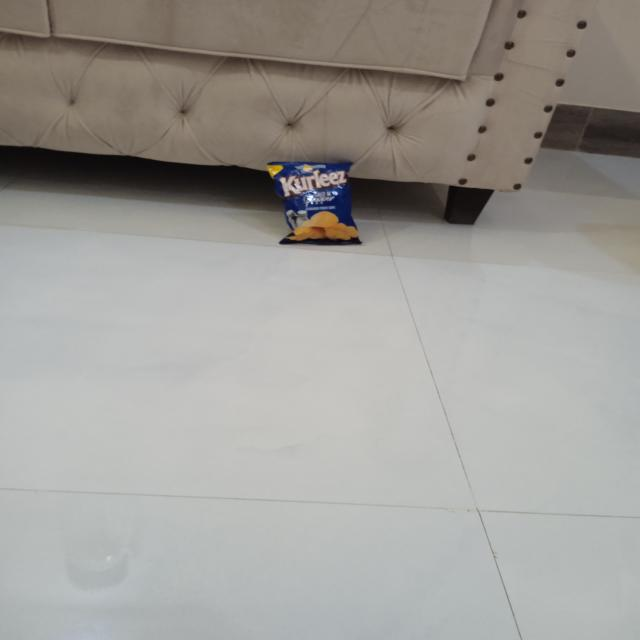Plastic: (256, 154, 374, 251)
